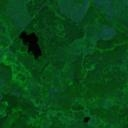alloviz: (18, 30, 42, 59), (82, 114, 90, 123)
